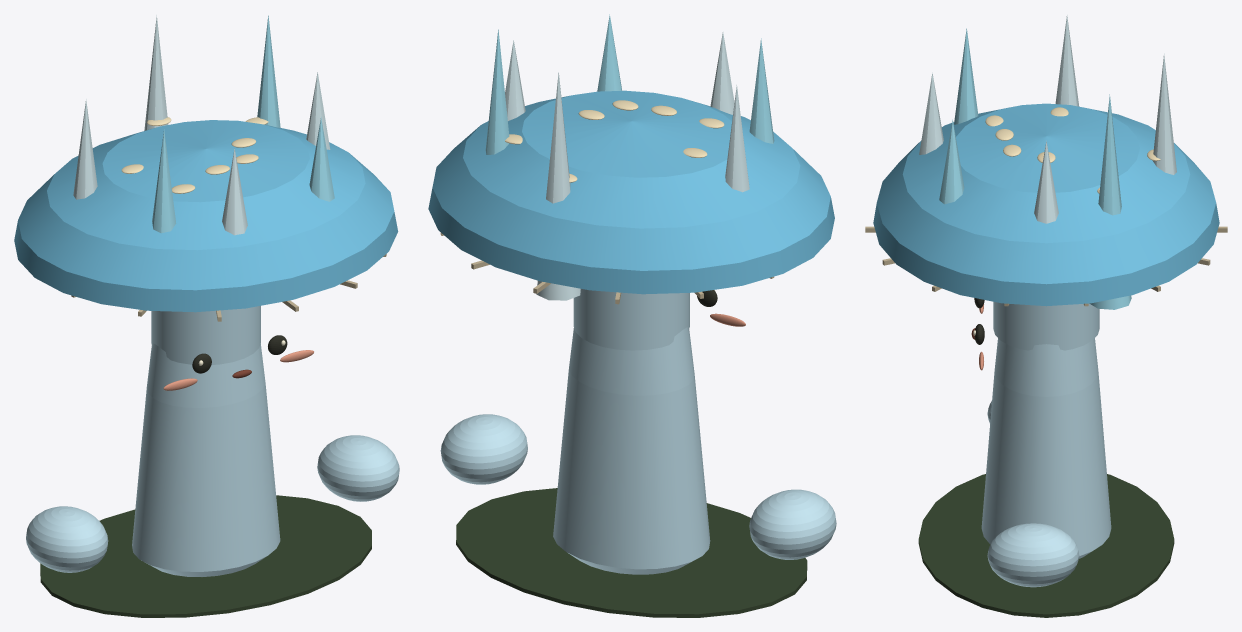
Rendered from boss_frozen.obj.
3 views of the same model, side by side, from view 1: azimuth 30°, elevation 25°; view 2: azimuth 150°, elevation 25°; view 3: azimuth 270°, elevation 25° (orthographic). The views are drawn at different scales.
Size of the model in its own units: 3.15 by 4.17 by 2.76.
